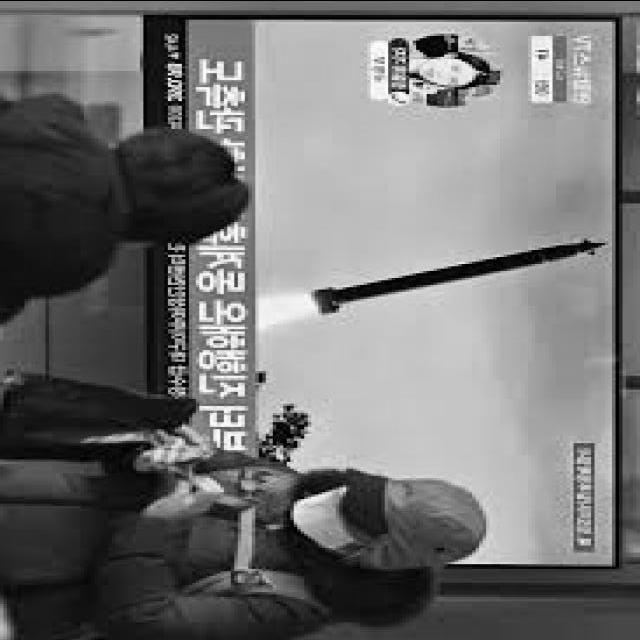Missile: (267, 235, 615, 316)
